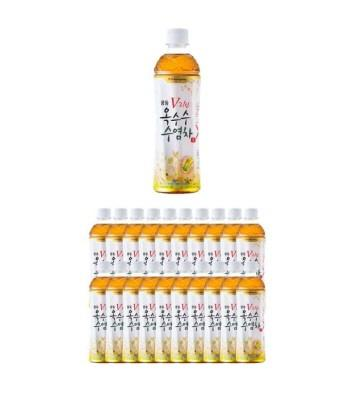oksususuyeomcha: (152, 27, 203, 197), (237, 259, 264, 364), (171, 257, 192, 366), (122, 258, 142, 365), (221, 254, 239, 365), (156, 257, 174, 368), (188, 257, 206, 366), (107, 260, 125, 366), (90, 261, 108, 367), (204, 256, 221, 365), (140, 259, 157, 367)
